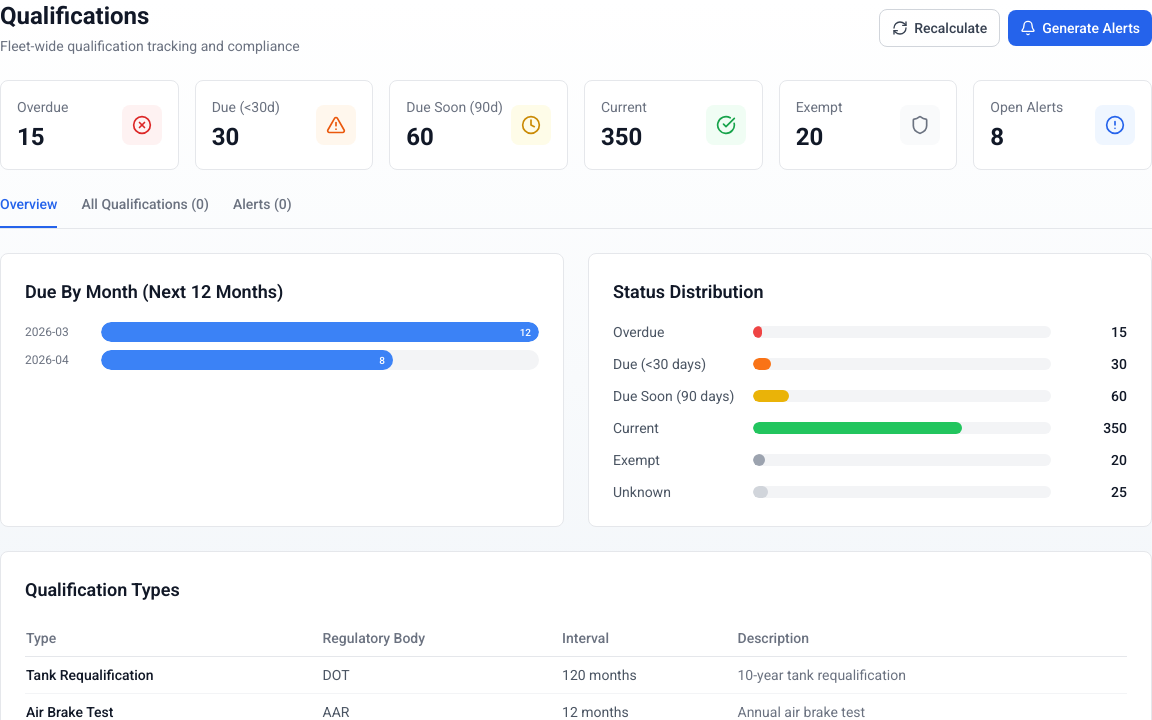
QualificationsPage › shows filter-specific empty state when filters active
Click the button "All Qualifications (0)".
click(145, 211)  # box left=82, top=194, right=209, bottom=228
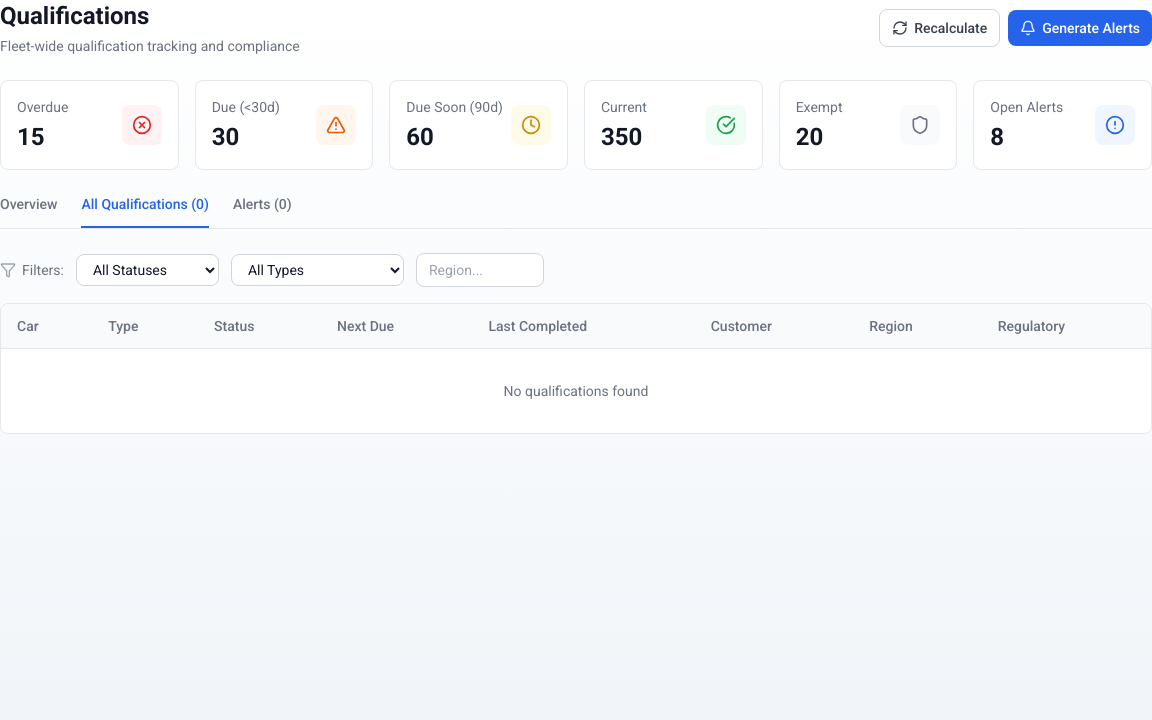
Expected: the text "No qualifications found" is shown, left=1, top=348, right=1151, bottom=433
Select a status filter
Select "Overdue" in the 1st dropdown at [147, 270], box left=76, top=254, right=219, bottom=286
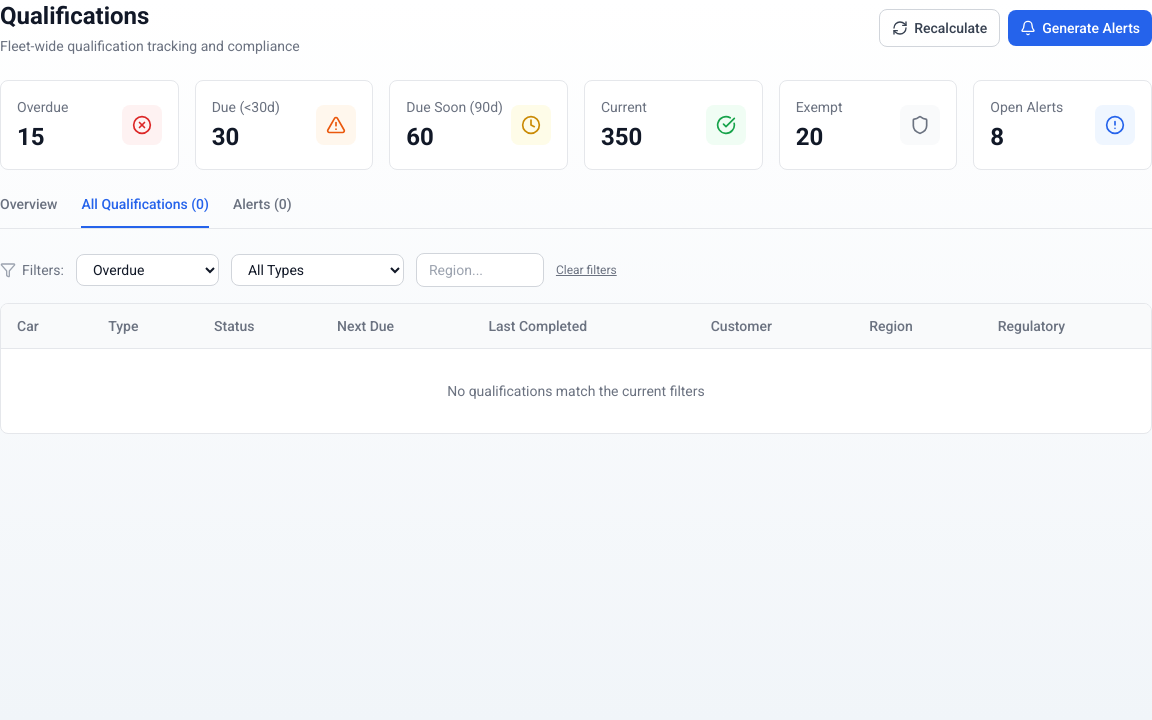
Expected: the text "No qualifications match the current filters" is shown, left=1, top=348, right=1151, bottom=433
